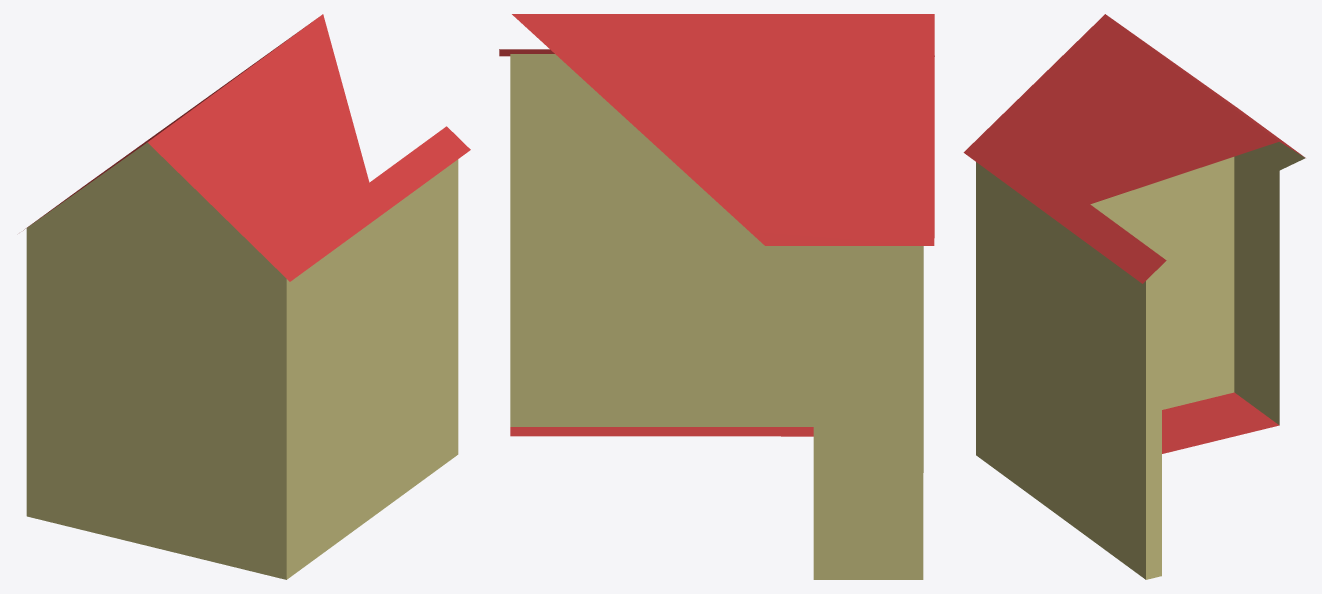
3 renders of one model, left to right at view 1: azimuth 30°, elevation 25°; view 2: azimuth 150°, elevation 25°; view 3: azimuth 270°, elevation 25°, orthographic. The views are drawn at different scales.
Size of the model in its own units: 12.65 by 9.28 by 12.06.
